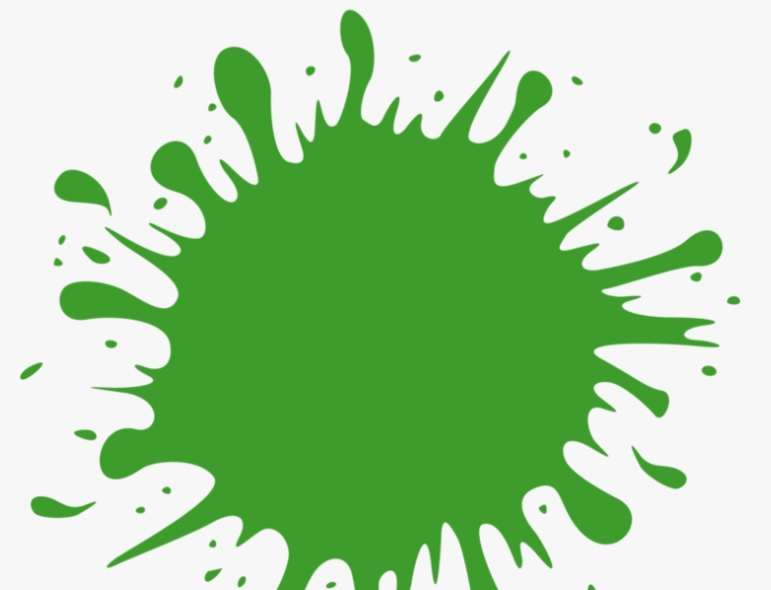Green: (80, 49, 657, 577)
